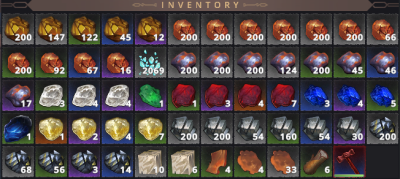aurelium ore: (2, 13, 34, 43), (101, 14, 133, 43), (135, 13, 165, 43), (37, 13, 66, 43), (69, 13, 98, 43)
copper ore: (3, 46, 33, 76), (36, 46, 66, 76), (68, 46, 98, 76), (102, 47, 132, 77), (234, 14, 265, 43), (169, 14, 199, 43), (300, 14, 330, 43), (367, 14, 397, 43), (202, 14, 231, 43), (268, 14, 297, 43), (334, 14, 364, 42)
diamond gem: (37, 80, 66, 110), (69, 80, 99, 109), (102, 81, 132, 109)
emerald gem: (135, 80, 165, 110)
ethereal dust: (135, 47, 166, 76)
iron ore: (268, 47, 299, 77), (301, 47, 332, 77), (3, 80, 34, 109), (202, 47, 232, 76), (235, 48, 265, 77), (368, 48, 397, 77), (169, 47, 198, 75), (335, 48, 364, 76)
ruby gem: (234, 80, 264, 109), (268, 80, 297, 110), (203, 81, 231, 110), (169, 81, 197, 109)
sapphire gem: (335, 79, 364, 110), (368, 80, 397, 110), (300, 82, 331, 109)
silver ore: (235, 113, 265, 143), (169, 114, 200, 143), (268, 114, 298, 143), (301, 114, 331, 143), (334, 114, 364, 143), (203, 113, 231, 143)
soft hide: (235, 147, 265, 176), (268, 147, 298, 176)
spruce log: (301, 146, 331, 176)
strong hide: (202, 146, 232, 176)
tin ore: (3, 146, 34, 176), (69, 146, 99, 176), (102, 145, 132, 175), (368, 114, 398, 143), (37, 147, 67, 176)
topaz gem: (36, 114, 66, 144), (103, 113, 132, 143), (136, 113, 165, 143), (69, 114, 99, 142)
travertine stone: (135, 146, 165, 175), (169, 147, 198, 175)
